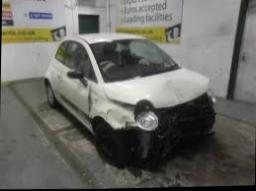Bonnet: (105, 68, 213, 110)
Bumper: (115, 97, 219, 160)
Fender: (84, 87, 139, 131)
Light: (132, 107, 161, 133)
